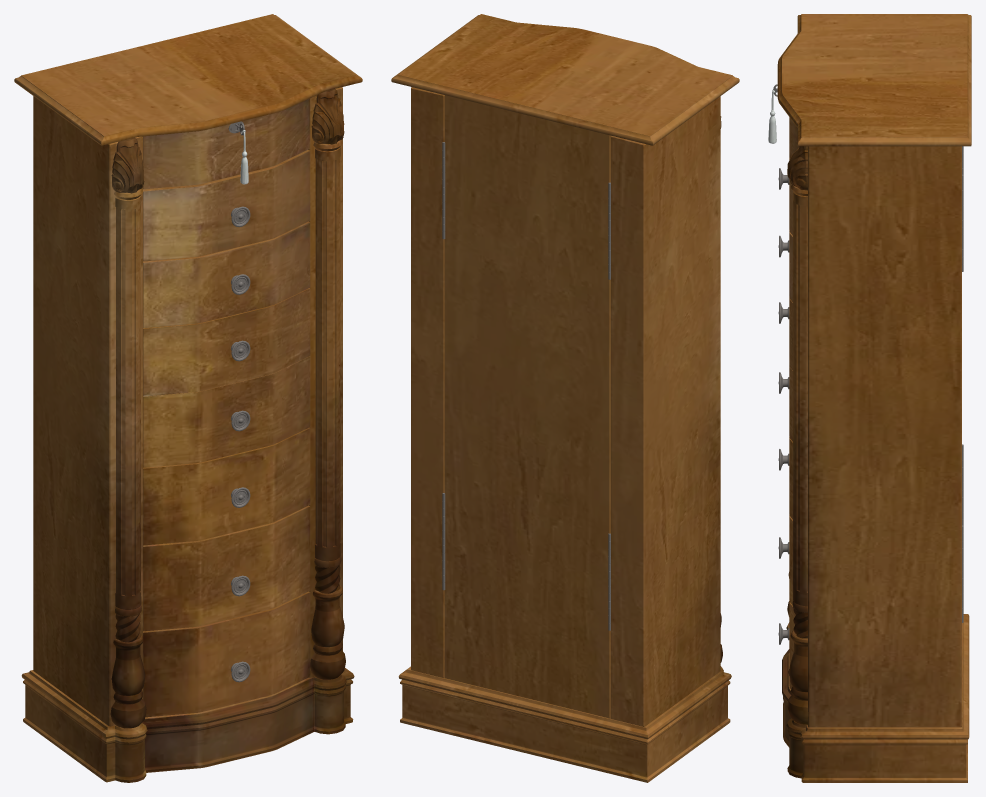
File: abo-B07K8F58D7.glb
3 views of the same model, side by side, from view 1: azimuth 30°, elevation 25°; view 2: azimuth 150°, elevation 25°; view 3: azimuth 270°, elevation 25° (orthographic).
Bounding box in the file's own units: 0.406 × 0.959 × 0.273.
Materials: 1 (1 with a texture image).
